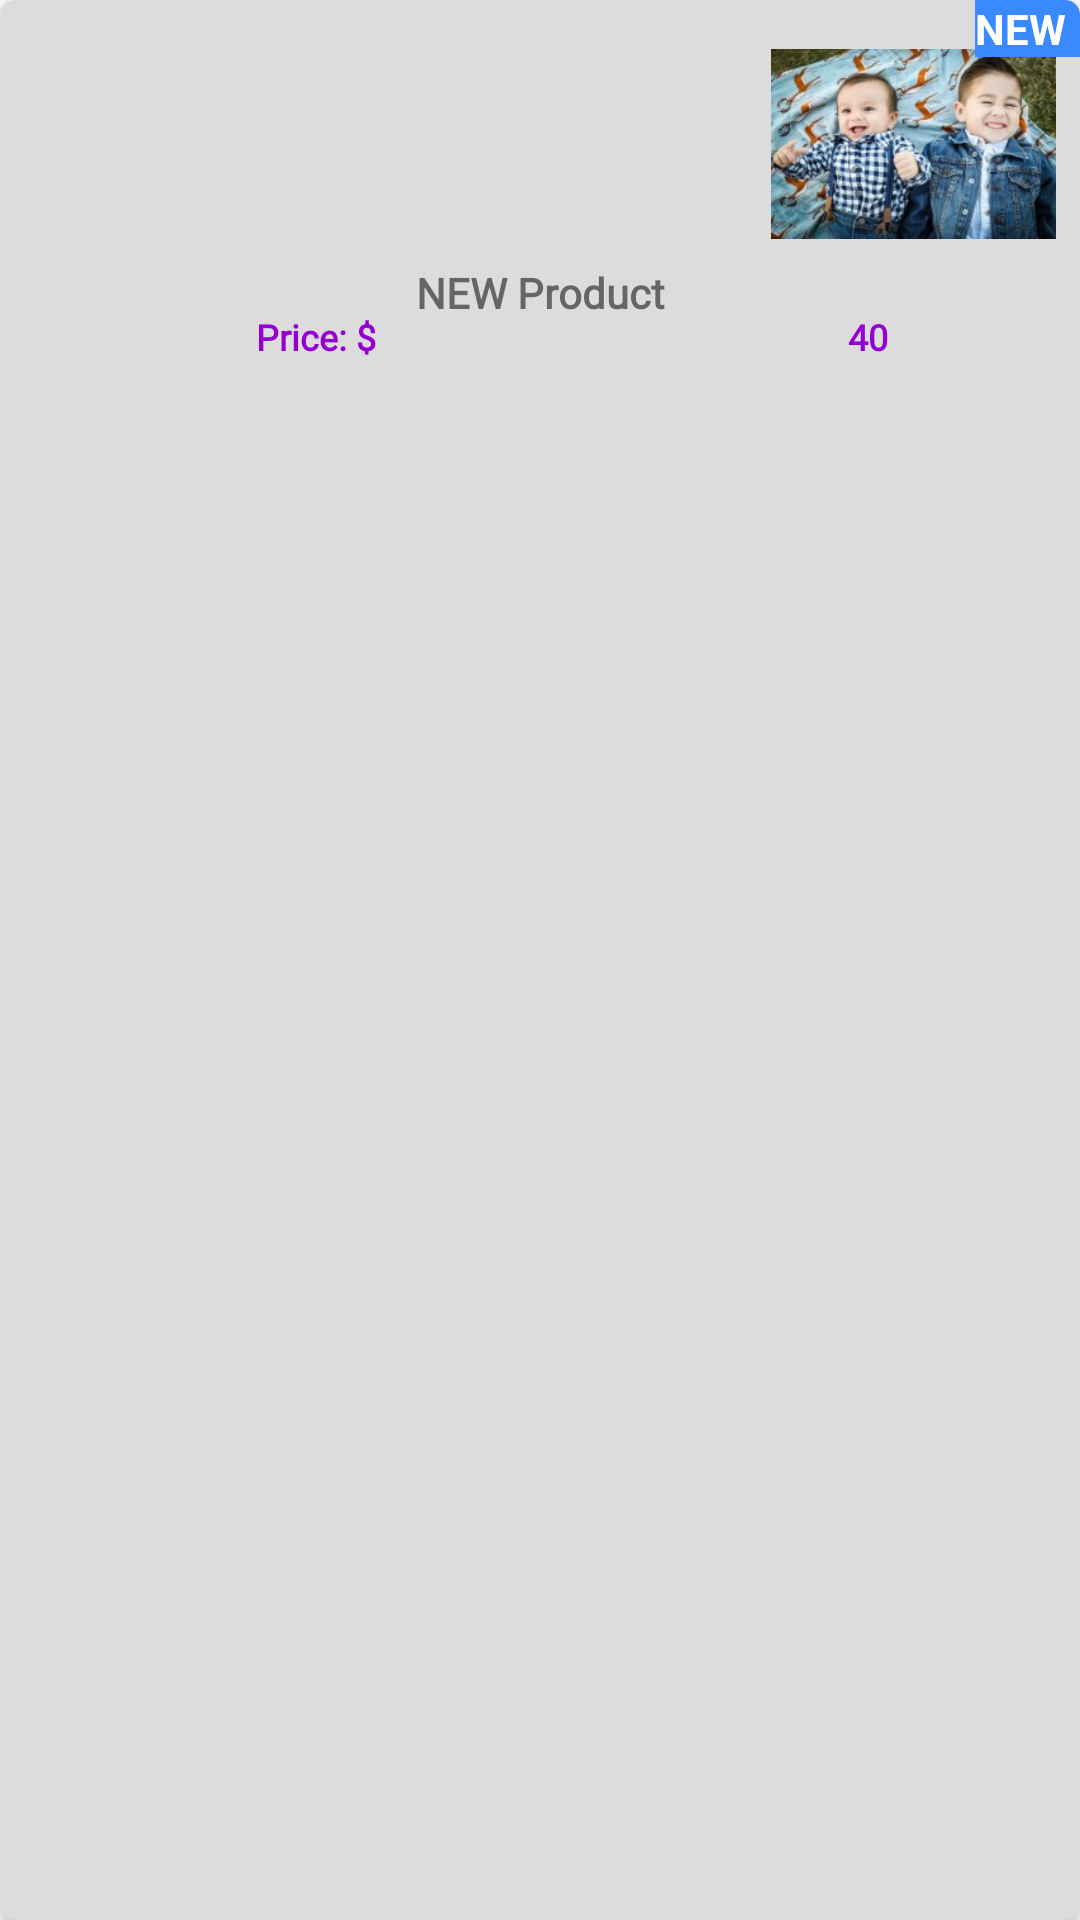

Named icons in this screenshot (1080*1920) and their bounding boxes, (x1, y1, x2, y2):
kid: (771, 24, 1056, 239)
